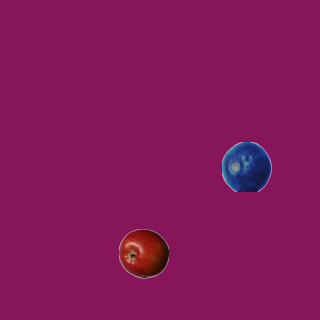Apple Braeburn: (118, 228, 168, 278)
Huckleberry: (221, 141, 271, 191)
